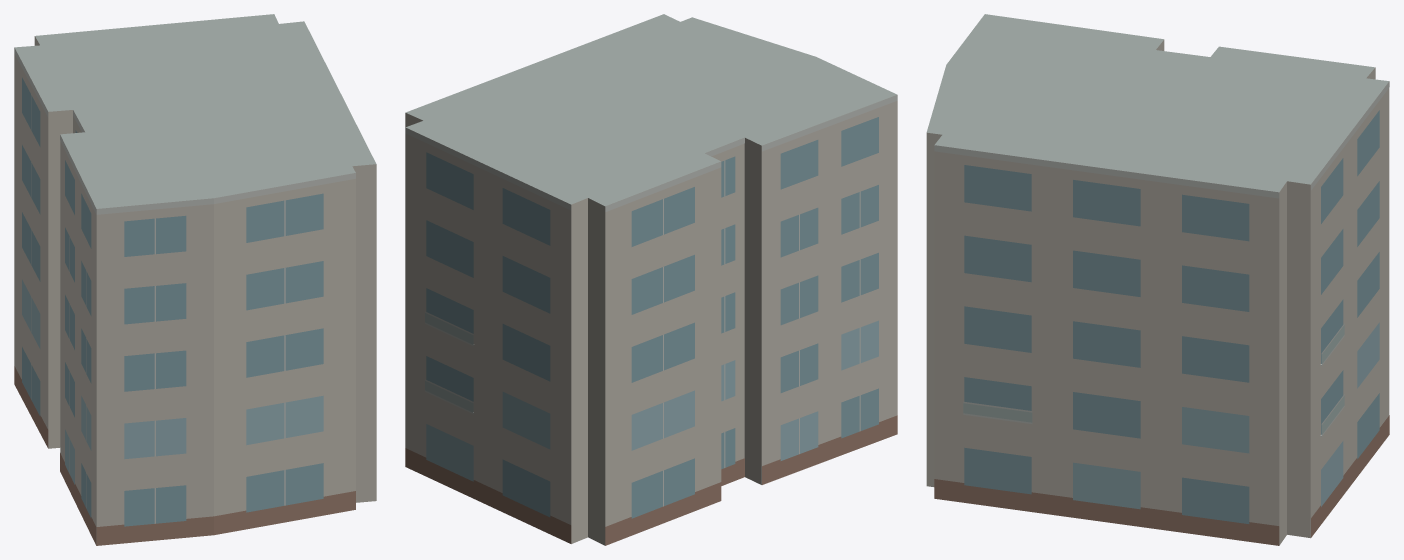
File: survey-upis-32915051.glb
The picture shows the model from 3 angles, left to right: view 1: azimuth 30°, elevation 25°; view 2: azimuth 150°, elevation 25°; view 3: azimuth 270°, elevation 25°; orthographic projection. The views are drawn at different scales.
Visible parts, largest first — view 1: survey-upis-32915051.tmp; view 2: survey-upis-32915051.tmp; view 3: survey-upis-32915051.tmp.
Part boxes in pixels (left/top/right/bottom): survey-upis-32915051.tmp: left=14, top=14, right=376, bottom=545; survey-upis-32915051.tmp: left=405, top=14, right=897, bottom=545; survey-upis-32915051.tmp: left=926, top=14, right=1389, bottom=545.
Bounding box in the file's own units: 15.04 × 13.9 × 16.5.
